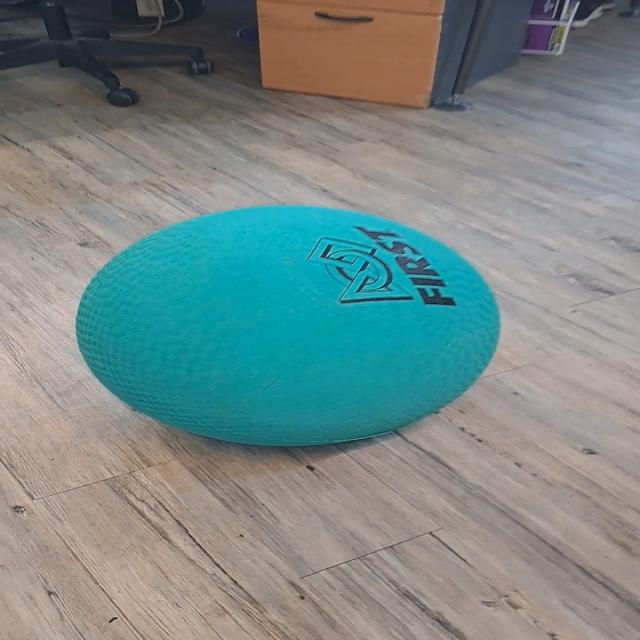ALGAE: (73, 203, 502, 448)
